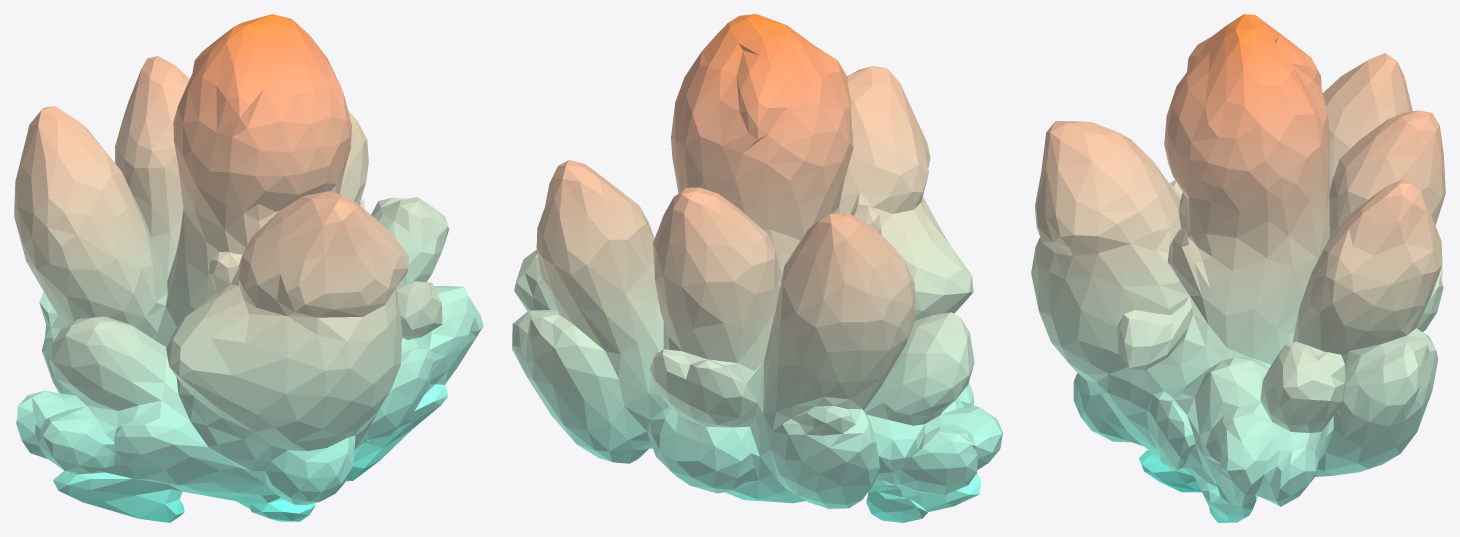
Rendered from 61_cyb_laser_gradient_fish_scales_2846_2026_10_03_ec41f3.glb.
The picture shows the model from 3 angles, left to right: view 1: azimuth 30°, elevation 25°; view 2: azimuth 150°, elevation 25°; view 3: azimuth 270°, elevation 25°; orthographic projection. The views are drawn at different scales.
Parts seen in each view (by area): view 1: geometry_0; view 2: geometry_0; view 3: geometry_0.
Boxes of the visible parts, x1=… form: geometry_0: x1=14, y1=14, x2=483, y2=522; geometry_0: x1=512, y1=14, x2=1002, y2=522; geometry_0: x1=1031, y1=14, x2=1445, y2=522.
Size of the model in its own units: 0.9592 by 0.9919 by 0.79.
